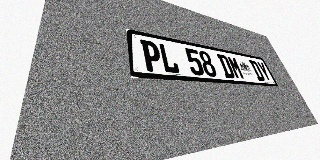5: (184, 48, 206, 76)
8: (197, 50, 218, 77)
D: (216, 54, 236, 79), (249, 60, 266, 81)
L: (158, 43, 180, 74)
M: (227, 56, 245, 79)
P: (140, 39, 163, 72)
Y: (256, 61, 273, 82)
